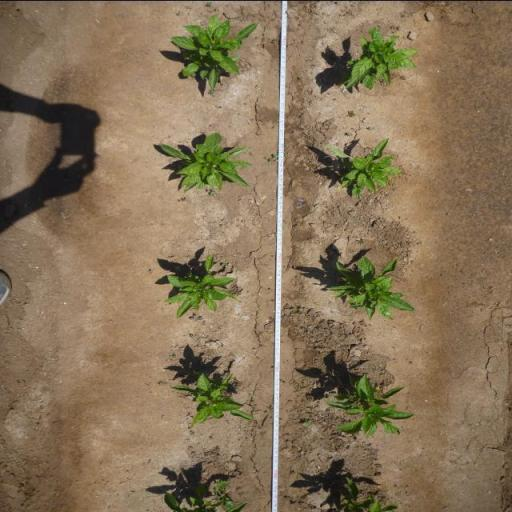plant: (170, 13, 260, 90), (324, 252, 419, 322), (323, 374, 415, 443), (156, 131, 254, 189), (336, 24, 420, 88), (162, 251, 240, 318), (167, 368, 254, 427), (324, 136, 404, 198), (337, 475, 398, 512), (161, 479, 216, 512)
weed: (214, 478, 235, 508), (188, 314, 204, 322), (264, 153, 278, 162), (206, 188, 216, 198), (327, 390, 337, 400), (346, 109, 356, 117), (302, 418, 312, 426), (267, 36, 276, 44), (175, 9, 183, 17), (357, 237, 365, 245), (258, 118, 267, 125), (205, 0, 213, 6), (346, 130, 353, 136), (179, 196, 186, 202), (290, 306, 296, 313), (220, 262, 228, 267), (269, 405, 274, 412), (368, 126, 376, 130), (212, 447, 220, 451), (188, 334, 195, 338), (190, 429, 194, 436), (148, 268, 152, 274), (281, 316, 286, 320), (172, 353, 176, 358), (294, 224, 300, 227)
